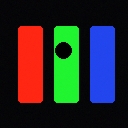2 circle: (55, 42, 71, 58)
